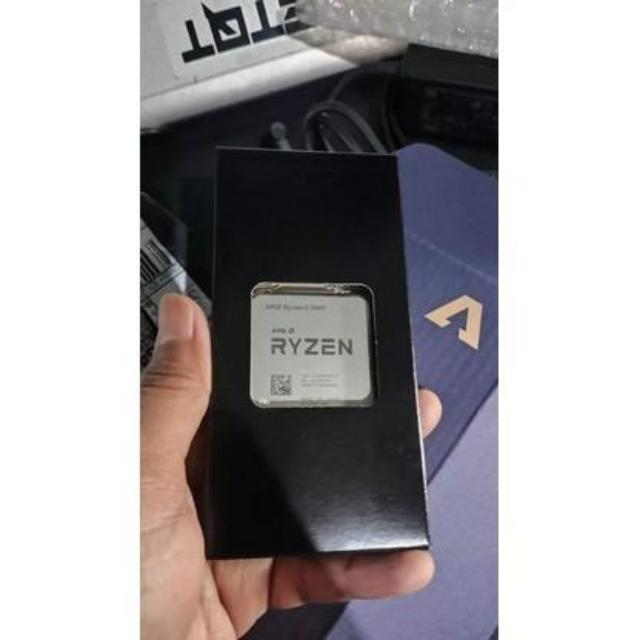CPU: (252, 290, 374, 408)
